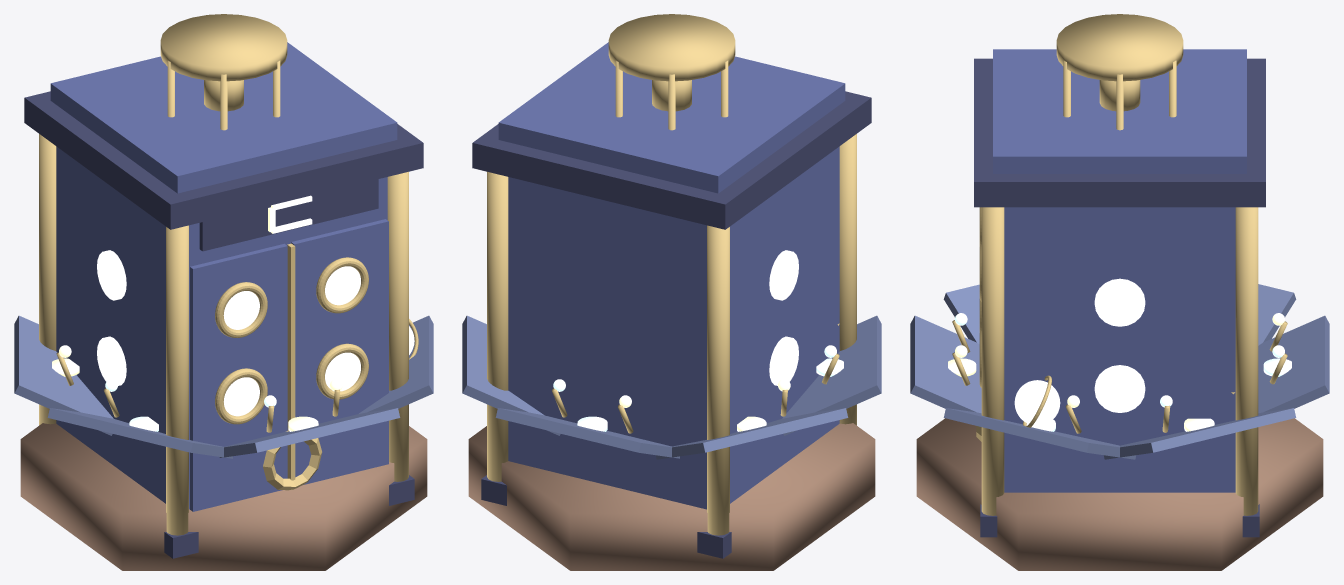
The model's file is booth.glb.
The picture shows the model from 3 angles, left to right: view 1: azimuth 30°, elevation 25°; view 2: azimuth 150°, elevation 25°; view 3: azimuth 270°, elevation 25°; orthographic projection.
Visible parts, largest first — view 1: booth_ext, console; view 2: booth_ext, console; view 3: booth_ext, console.
Part boxes in pixels (x1,y1,x2,y2): booth_ext: (24,42,423,558); console: (14,14,433,570); booth_ext: (472,42,871,558); console: (462,14,881,570); booth_ext: (974,49,1265,537); console: (910,14,1329,570).
Size of the model in its own units: 3.51 by 3.96 by 3.3.
